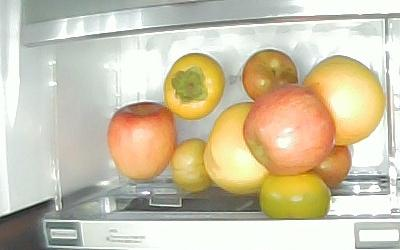apple: (242, 84, 335, 175), (106, 101, 177, 179)
grapefruit: (304, 55, 385, 143), (202, 101, 268, 195)
persimmon: (164, 53, 223, 119), (259, 170, 330, 219)
prune: (241, 48, 297, 102), (170, 138, 210, 192), (311, 144, 351, 188)
